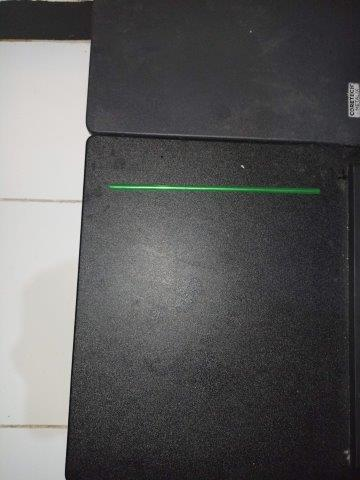sedotan: (108, 183, 320, 195)
